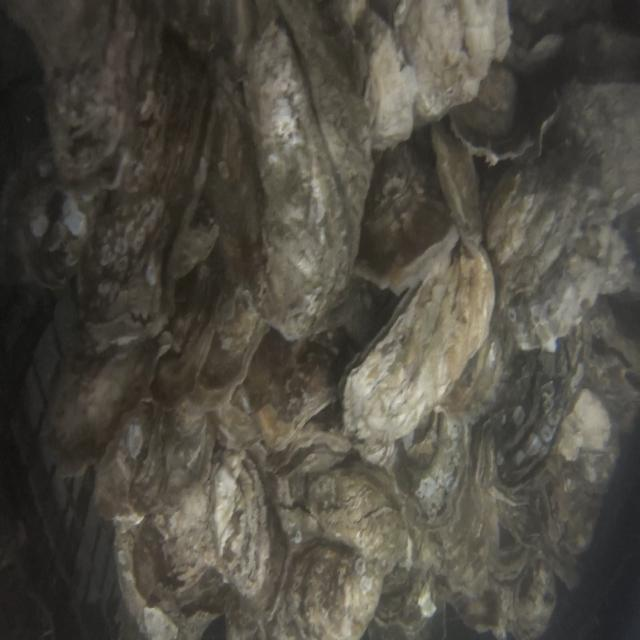Oyster-Closed: (245, 2, 372, 340), (342, 242, 495, 464), (6, 0, 162, 184), (156, 451, 285, 609), (42, 331, 159, 473), (399, 0, 510, 121), (0, 149, 94, 289), (169, 289, 268, 409), (78, 191, 168, 319), (491, 344, 571, 484), (450, 62, 558, 164), (245, 329, 336, 450), (361, 142, 451, 262), (309, 469, 408, 573), (288, 542, 382, 640), (114, 513, 179, 640), (431, 122, 482, 254), (164, 0, 256, 71), (555, 389, 611, 482), (505, 0, 565, 73)
Oyster-Open: (164, 78, 218, 235), (266, 422, 351, 478)
